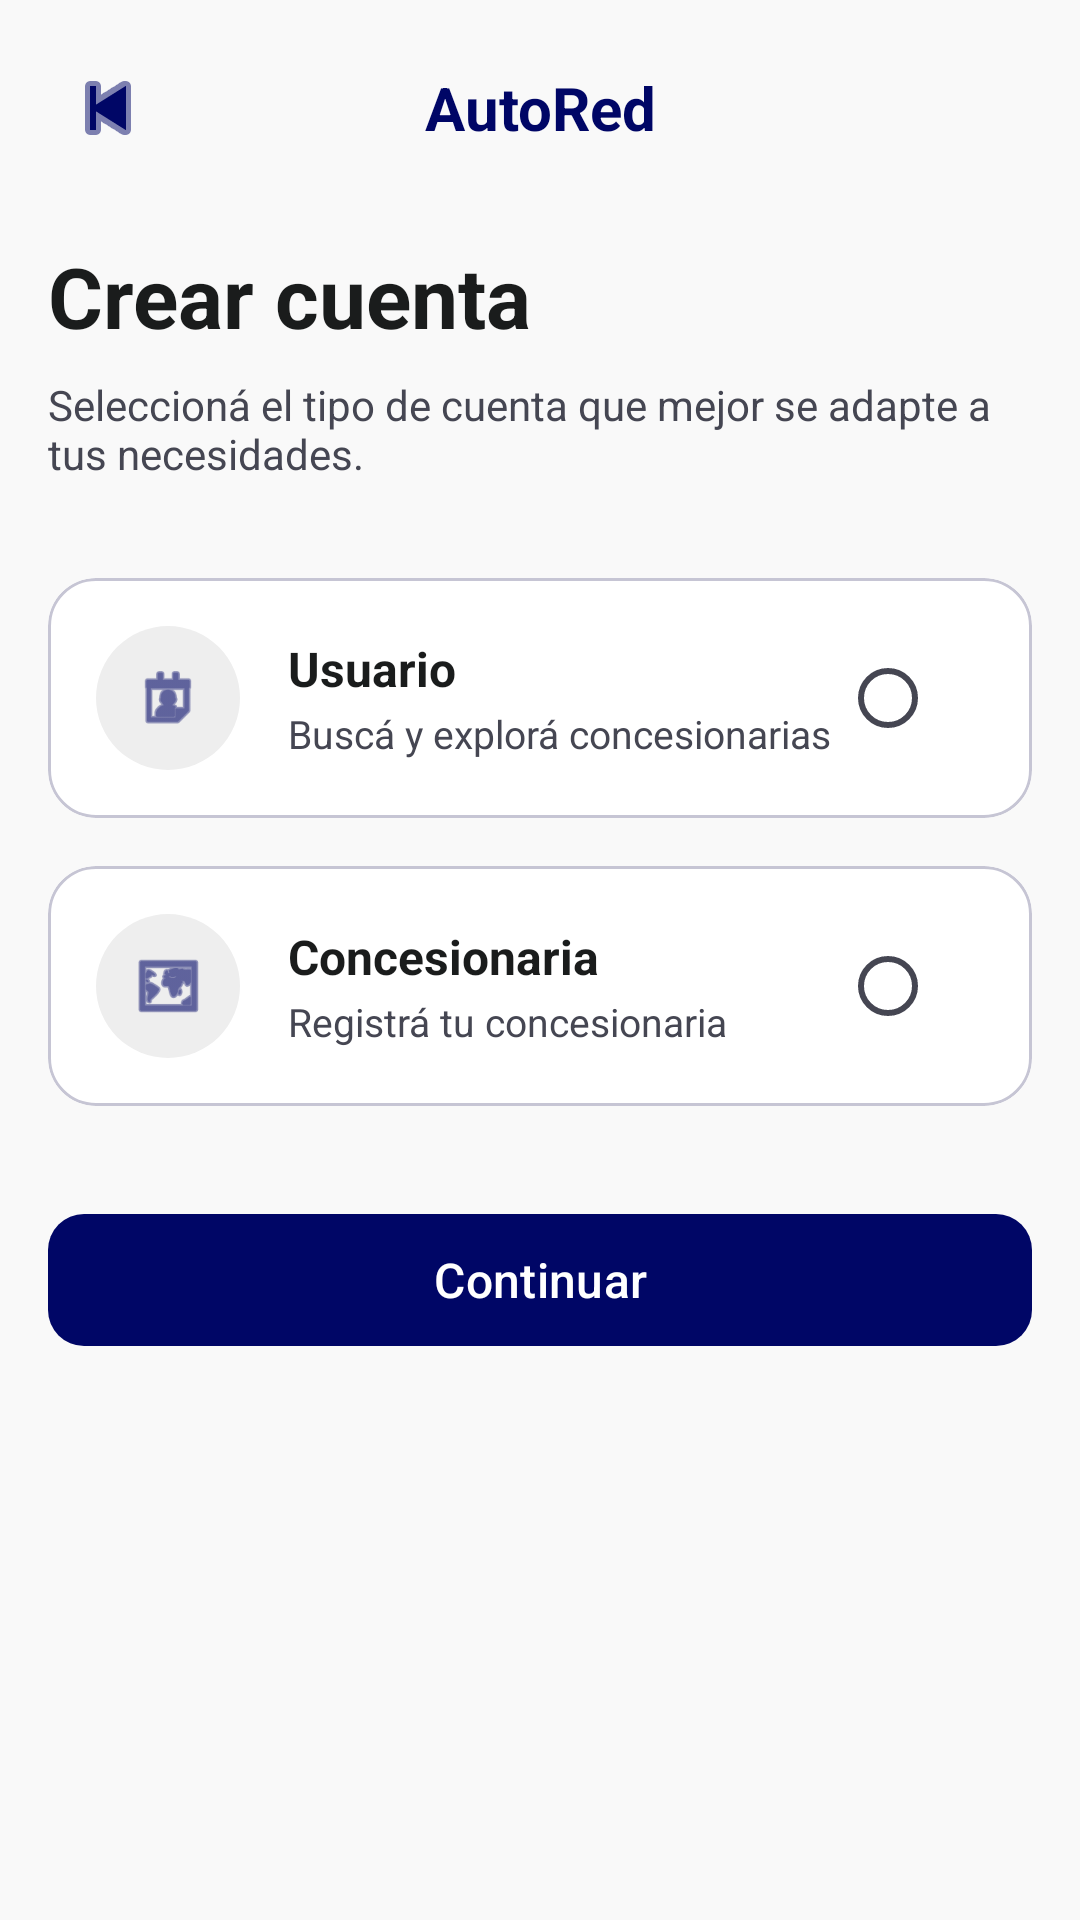

Icons on this 1080 x 1920 Android screen, each with its box as [x1, y1, x2, y2]:
Volver: [85, 81, 131, 135]
